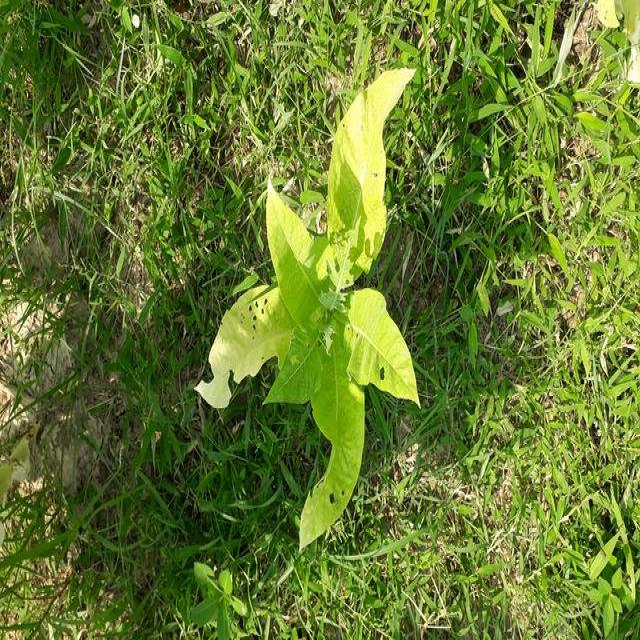crop: (207, 68, 420, 536)
